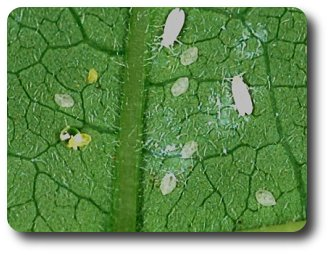Tobacco Whitefly: (229, 68, 259, 130), (157, 7, 187, 56)
